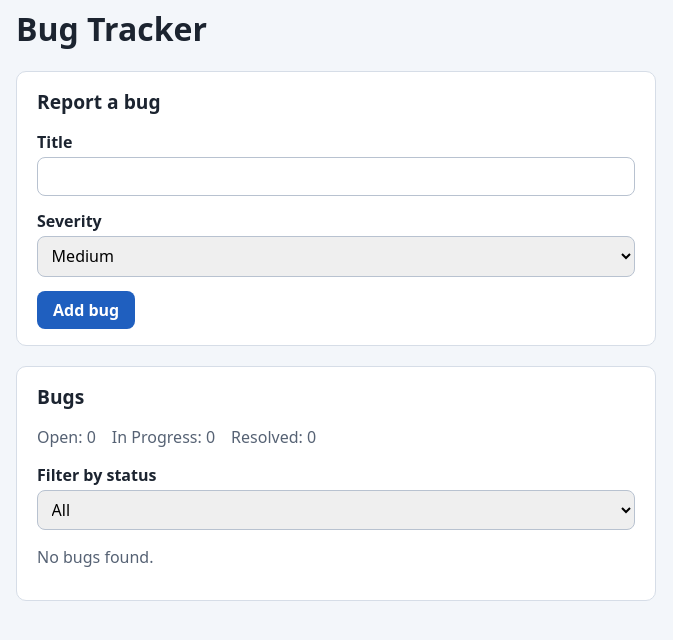
it: Bug Tracker › deletes a bug
Step 1. Type "Typo on home page" into the field labelled "Title" → x=336, y=177, box [37, 157, 635, 196]
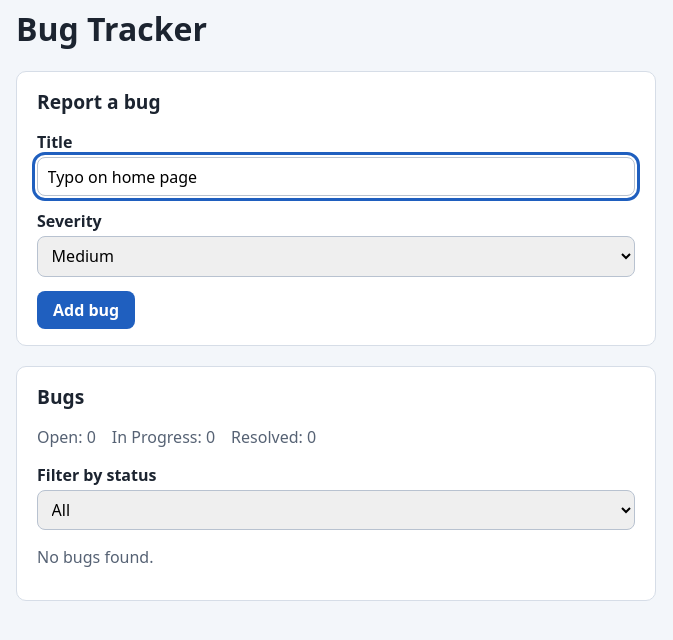
Step 2. Click the button "Add bug" → x=86, y=310, box [37, 291, 135, 329]
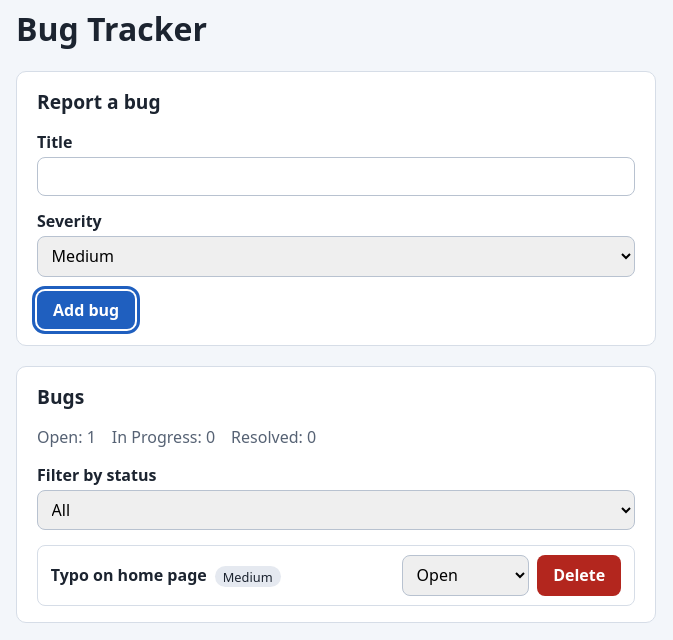
Step 3. Click the button with aria-label "Delete Typo on home page" → x=579, y=575, box [537, 555, 621, 596]
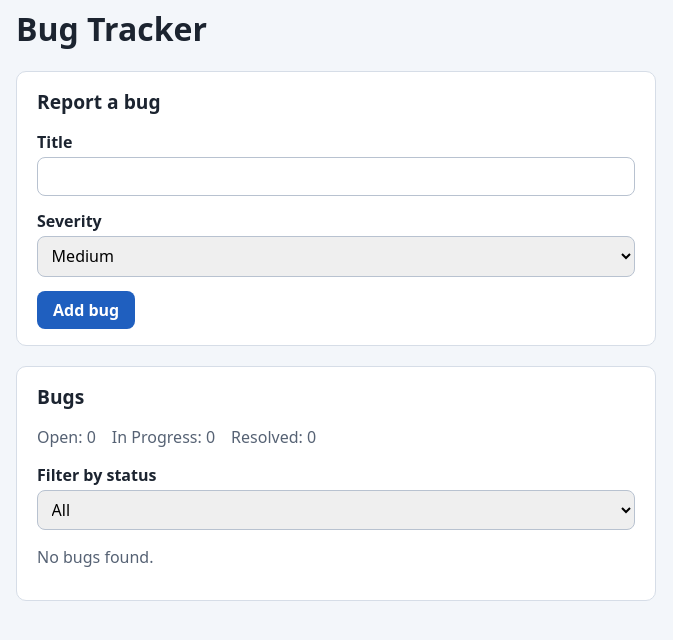
Check: the text "Typo on home page" is gone
